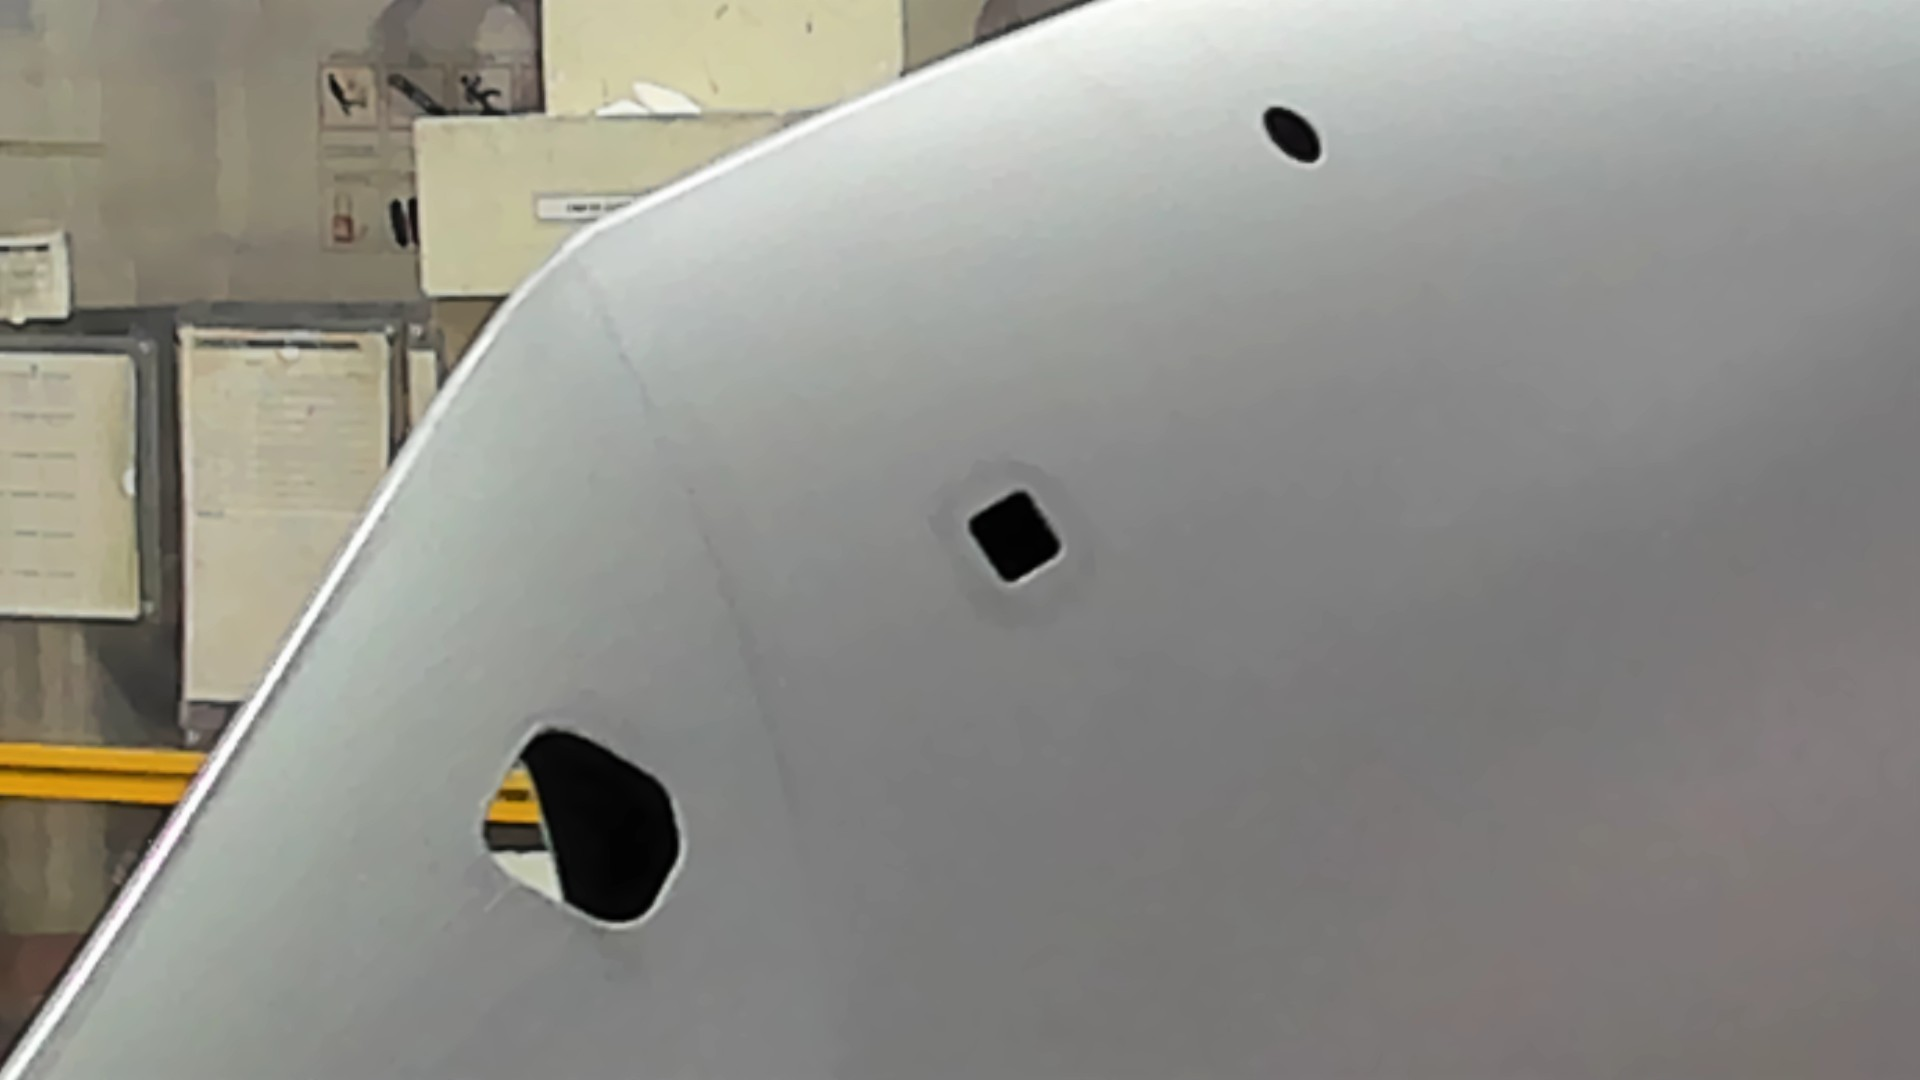chico: (1257, 102, 1324, 165)
grande: (473, 717, 691, 938)
mediano: (961, 483, 1071, 596)
